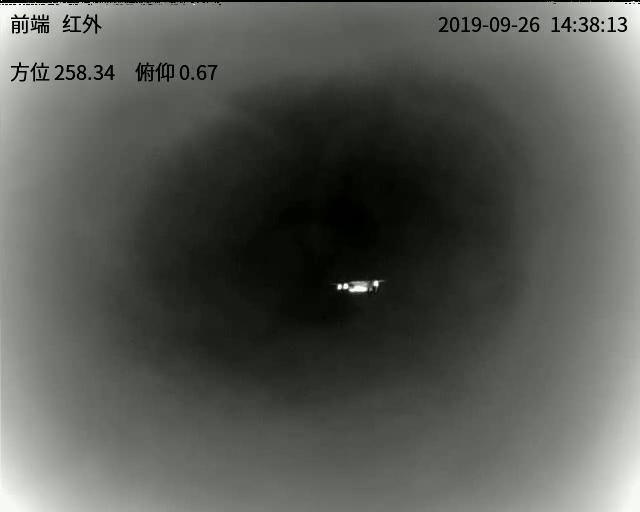DRONE: (335, 278, 382, 295)
